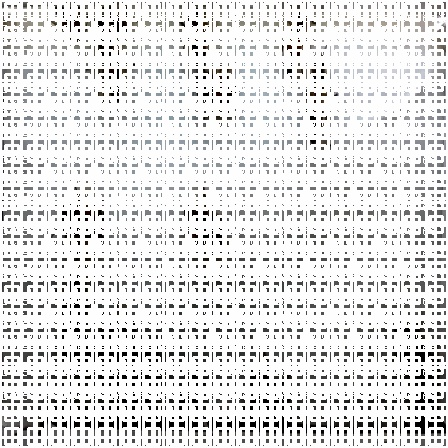bee: (159, 180, 254, 273), (40, 172, 124, 263), (229, 344, 307, 430), (79, 13, 144, 114), (378, 307, 443, 406), (36, 261, 94, 370), (68, 288, 147, 368), (295, 36, 345, 157), (182, 56, 258, 134), (163, 355, 214, 437), (272, 7, 319, 91), (172, 4, 224, 77)
